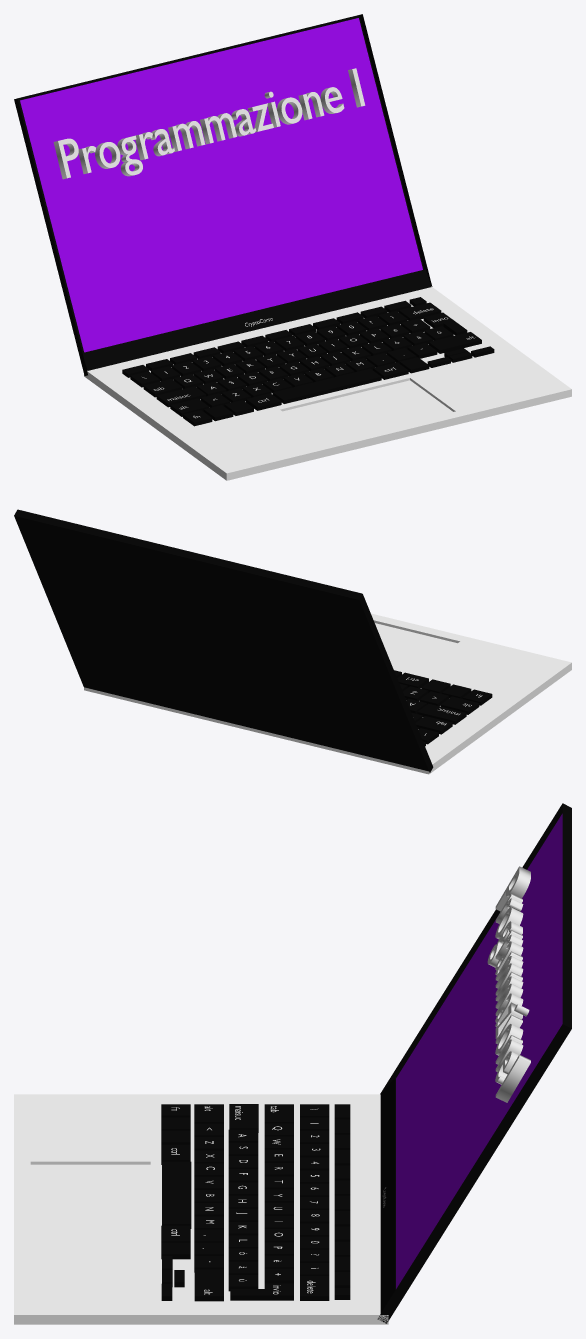
Rendered from programmazione.glb.
3 views of the same model, one above another, from view 1: azimuth 30°, elevation 25°; view 2: azimuth 150°, elevation 25°; view 3: azimuth 270°, elevation 25° (orthographic). The views are drawn at different scales.
Visible parts, largest first — view 1: Cube.073, Cube, Text.001, Cube.074, Cube.001, Cube.072, Cube.123; view 2: Cube.001, Cube, Cube.065, Cube.064, Cube.066, Cube.071; view 3: Cube, Cube.073, Cube.001, Text.001, Cube.074, Cube.072, Cube.123, Cube.065, Cube.027.
Part boxes in pixels (x1,y1,x2,y2): Cube.073: (20, 18, 422, 352); Cube: (84, 286, 571, 480); Text.001: (53, 68, 365, 179); Cube.074: (82, 269, 431, 370); Cube.001: (14, 14, 432, 375); Cube.072: (272, 368, 381, 403); Cube.123: (428, 332, 481, 353); Cube.001: (14, 509, 433, 772); Cube: (84, 613, 571, 774); Cube.065: (417, 703, 466, 724); Cube.064: (440, 696, 479, 714); Cube.066: (415, 716, 452, 734); Cube.071: (397, 672, 428, 688); Cube: (14, 1094, 388, 1324); Cube.073: (396, 813, 562, 1288); Cube.001: (377, 803, 571, 1323); Text.001: (487, 866, 530, 1102); Cube.074: (380, 1077, 396, 1313); Cube.072: (162, 1161, 191, 1228); Cube.123: (194, 1269, 223, 1301); Cube.065: (229, 1104, 258, 1132); Cube.027: (300, 1276, 329, 1300).
Size of the model in its own units: 6.79 by 4.31 by 7.25.
